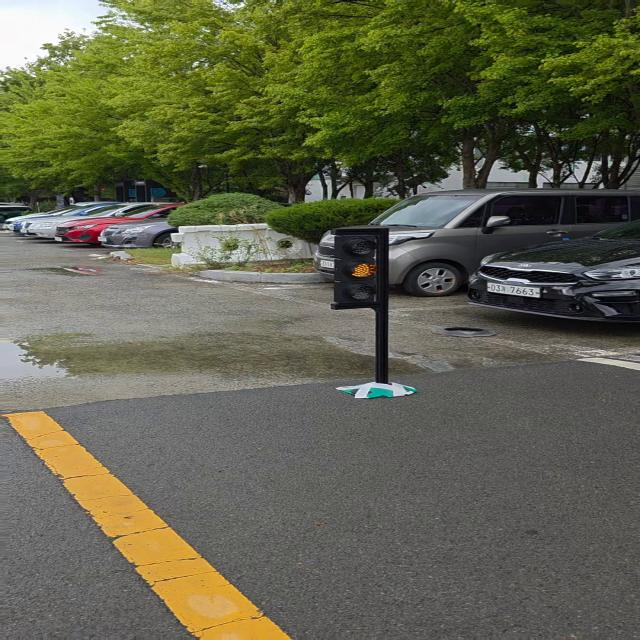yellow: (336, 231, 387, 308)
